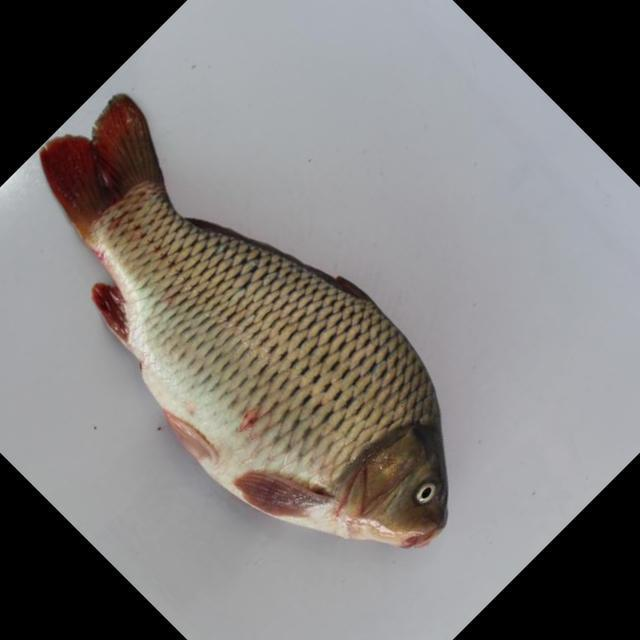CommonCarp: (37, 87, 497, 551)
